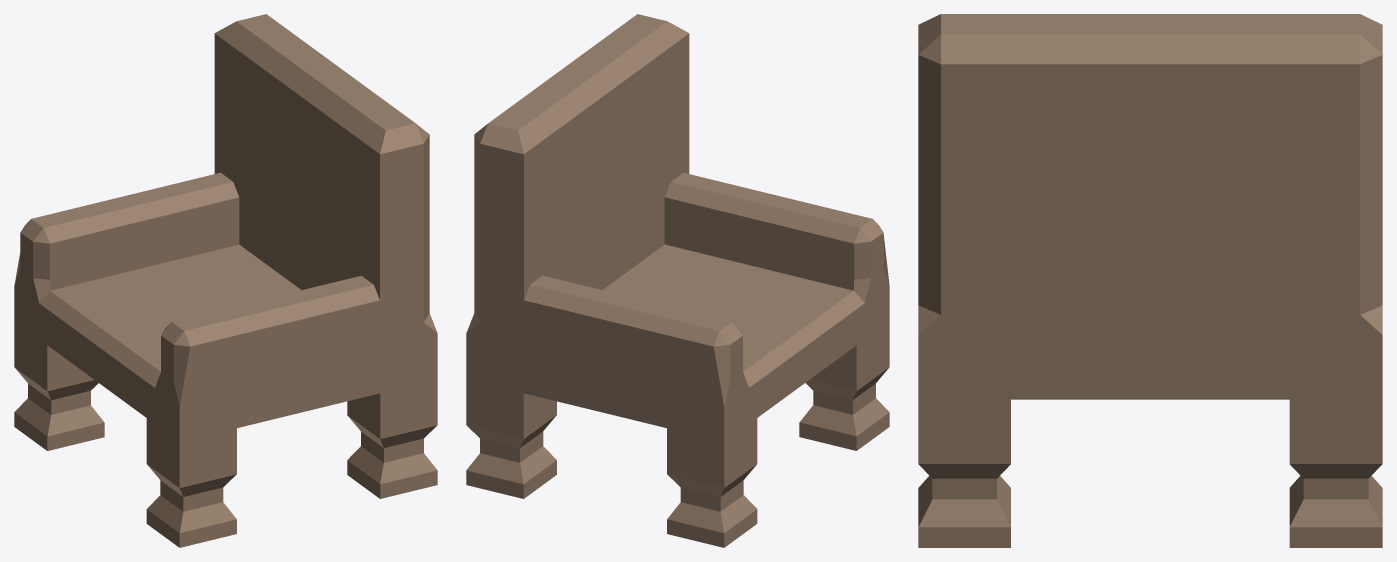
File: w_r_chair.glb
3 renders of one model, left to right at view 1: azimuth 30°, elevation 25°; view 2: azimuth 150°, elevation 25°; view 3: azimuth 270°, elevation 25°, orthographic. The views are drawn at different scales.
Visible parts, largest first — view 1: Cube.001; view 2: Cube.001; view 3: Cube.001.
Part boxes in pixels (left/top/right/bottom): Cube.001: left=14, top=14, right=437, bottom=547; Cube.001: left=466, top=14, right=889, bottom=547; Cube.001: left=918, top=14, right=1382, bottom=547.
Bounding box in the file's own units: 1.8 × 2.4 × 2.
